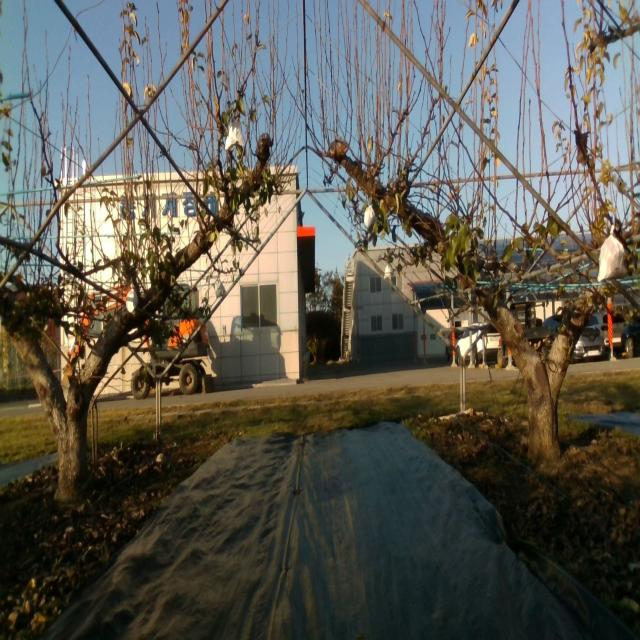pearbags: (598, 223, 628, 284), (224, 122, 244, 150), (126, 282, 139, 312), (364, 205, 376, 230), (216, 278, 227, 298)
